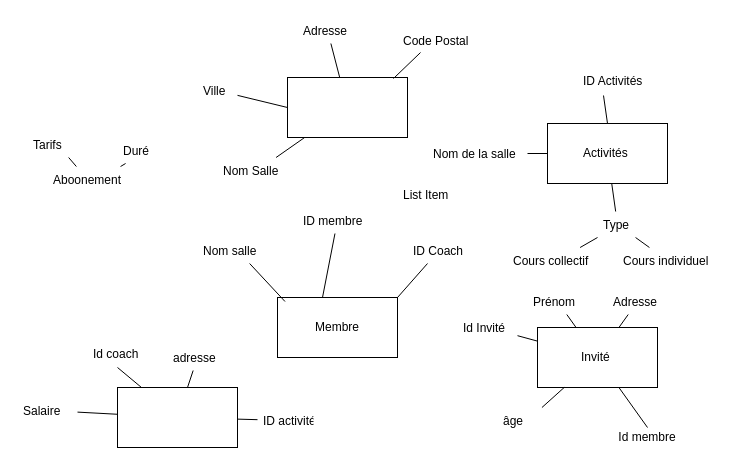
The diagram is 734 pixels wide and 465 high, and some of its shapes have lost their labels. The shapes that lost their labels are listed below. From the top down, each one's centre as x and y in pixels, then its label:
At point (347, 107): "Une salle".
At point (177, 417): "Coach".
